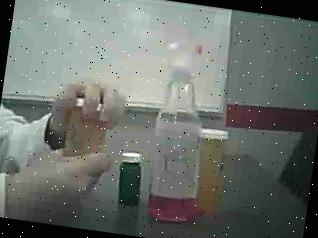Bottle A: (192, 120, 237, 222)
Bottle B: (56, 77, 122, 176)
Bottle C: (110, 149, 152, 214)
hazard: (140, 36, 224, 227)
